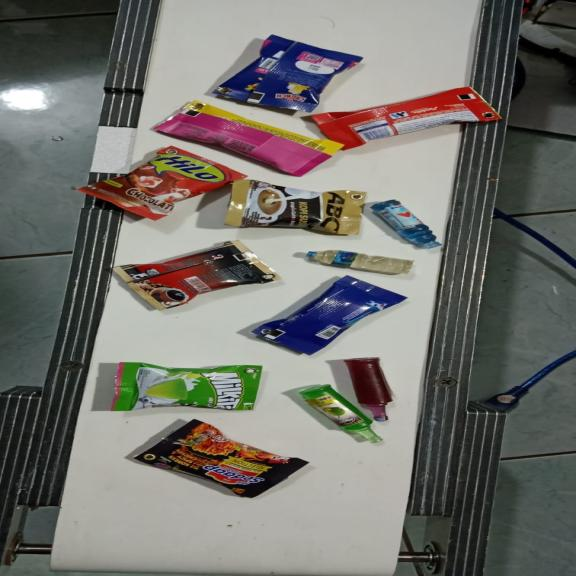Plastik: (151, 100, 345, 177), (134, 419, 312, 499), (76, 145, 247, 221), (248, 275, 408, 356), (311, 87, 502, 150), (212, 34, 363, 112), (114, 240, 280, 310), (224, 178, 370, 235), (110, 362, 265, 411), (298, 384, 383, 444), (370, 199, 442, 249), (344, 357, 394, 421), (305, 249, 416, 276)
